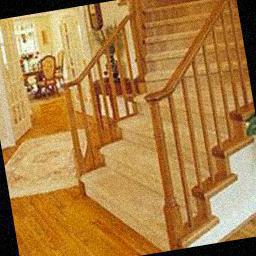Escaleras: (53, 0, 256, 232)
